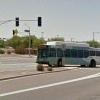Bus: (33, 38, 100, 69)
